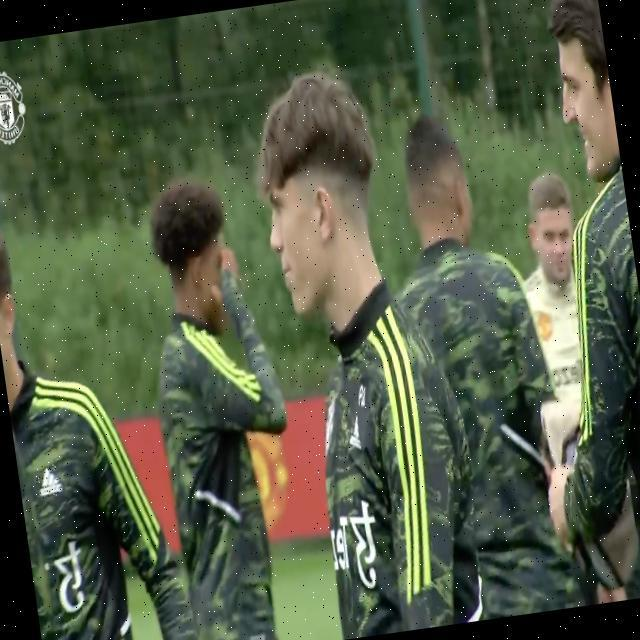Adidas: (35, 463, 64, 499)
